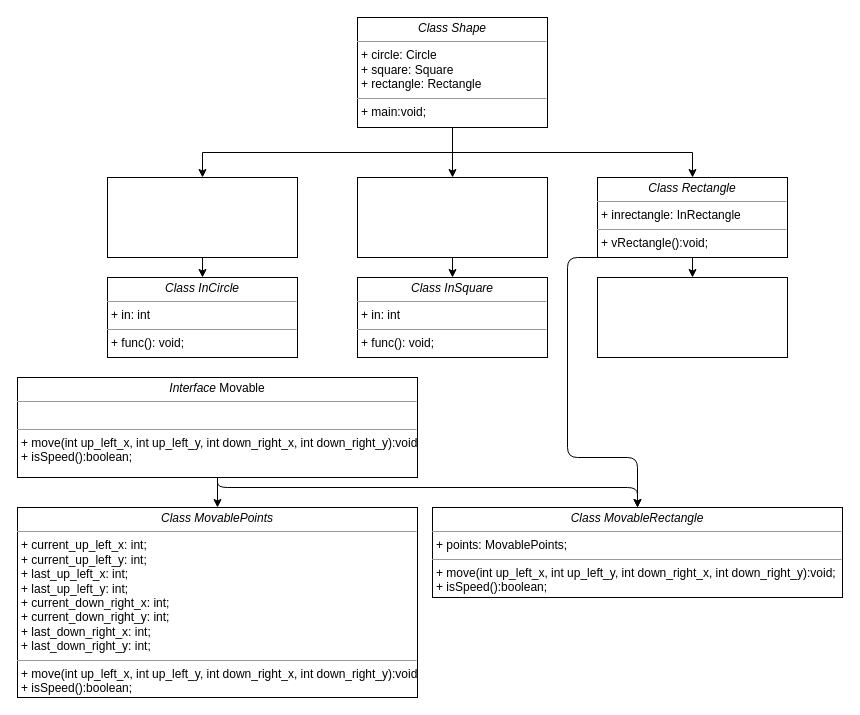
This 860x715 diagram has some shape labels left out. The box of each missing label's shape, as (x1, y1, x2, y2) in pixels:
Class Circle + incircle: InCircle + vCircle():void;: (106, 176, 298, 258)
Class InRectangle + in: int + func(): void;: (596, 276, 788, 358)
Class Square + insquare: InSquare + vSquare():void;: (356, 176, 548, 258)
